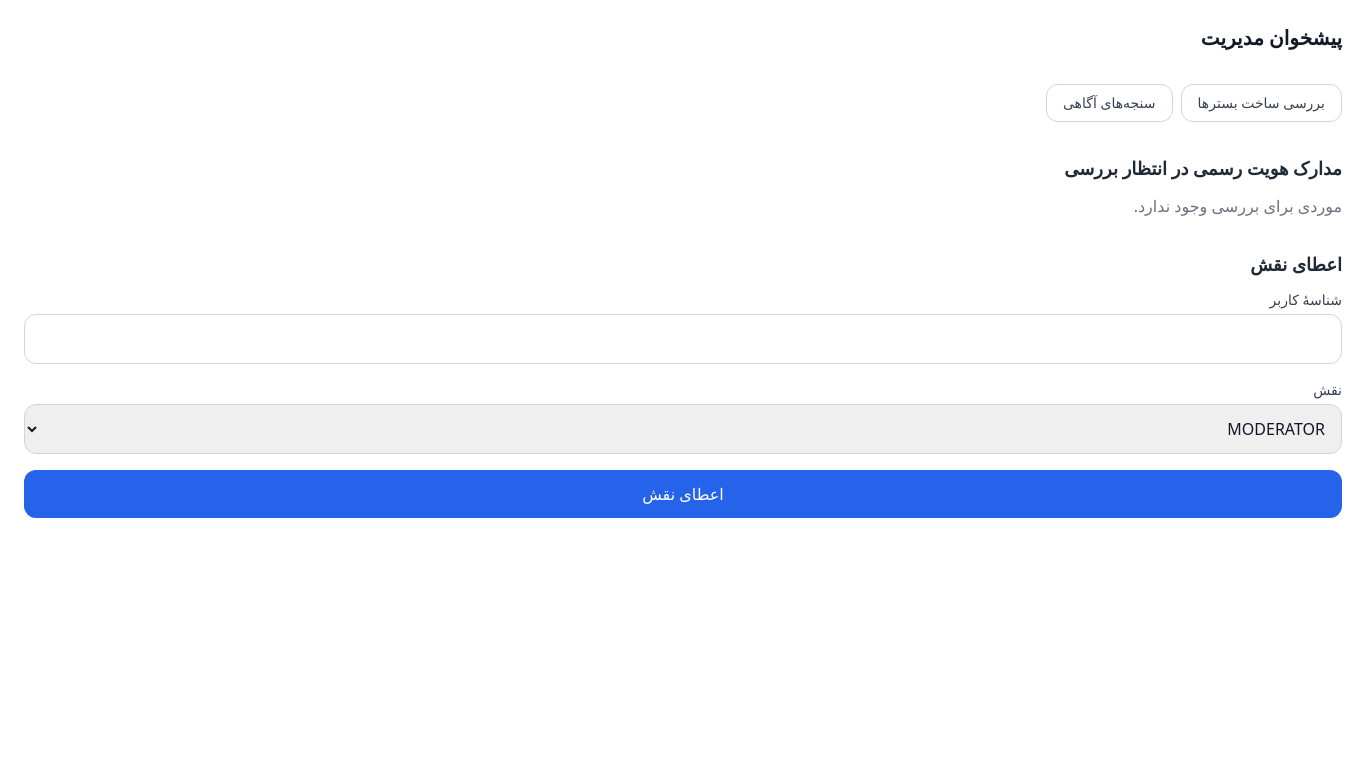
it: AdminDashboard › assigns a role via the form and shows a success message
Check: the text "موردی برای بررسی وجود ندارد." is shown, box left=1134, top=195, right=1342, bottom=217
Type "33333333-3333-4333-8333-333333333333" into the field labelled "شناسهٔ کاربر" at (683, 339), box left=24, top=314, right=1342, bottom=364
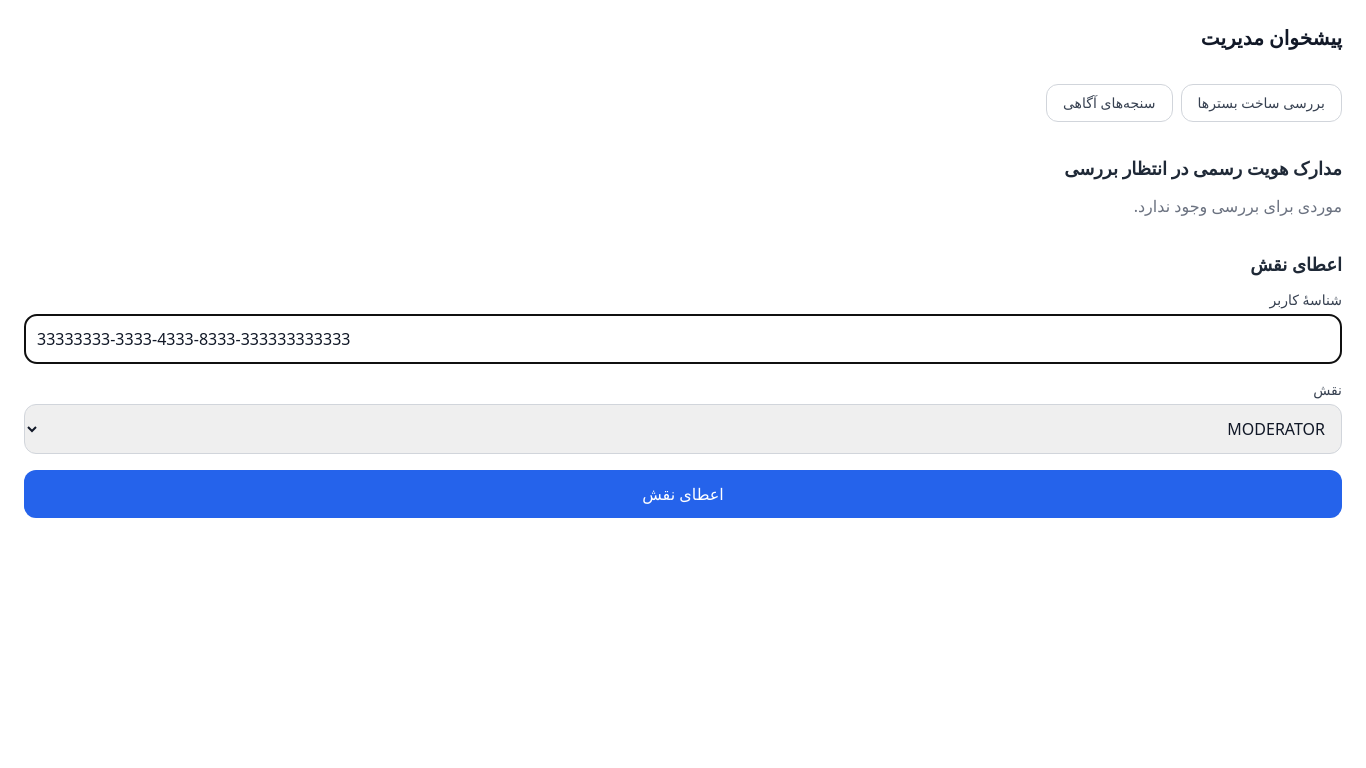
Select "MODERATOR" in the dropdown labelled "نقش" at (683, 429), box left=24, top=404, right=1342, bottom=454
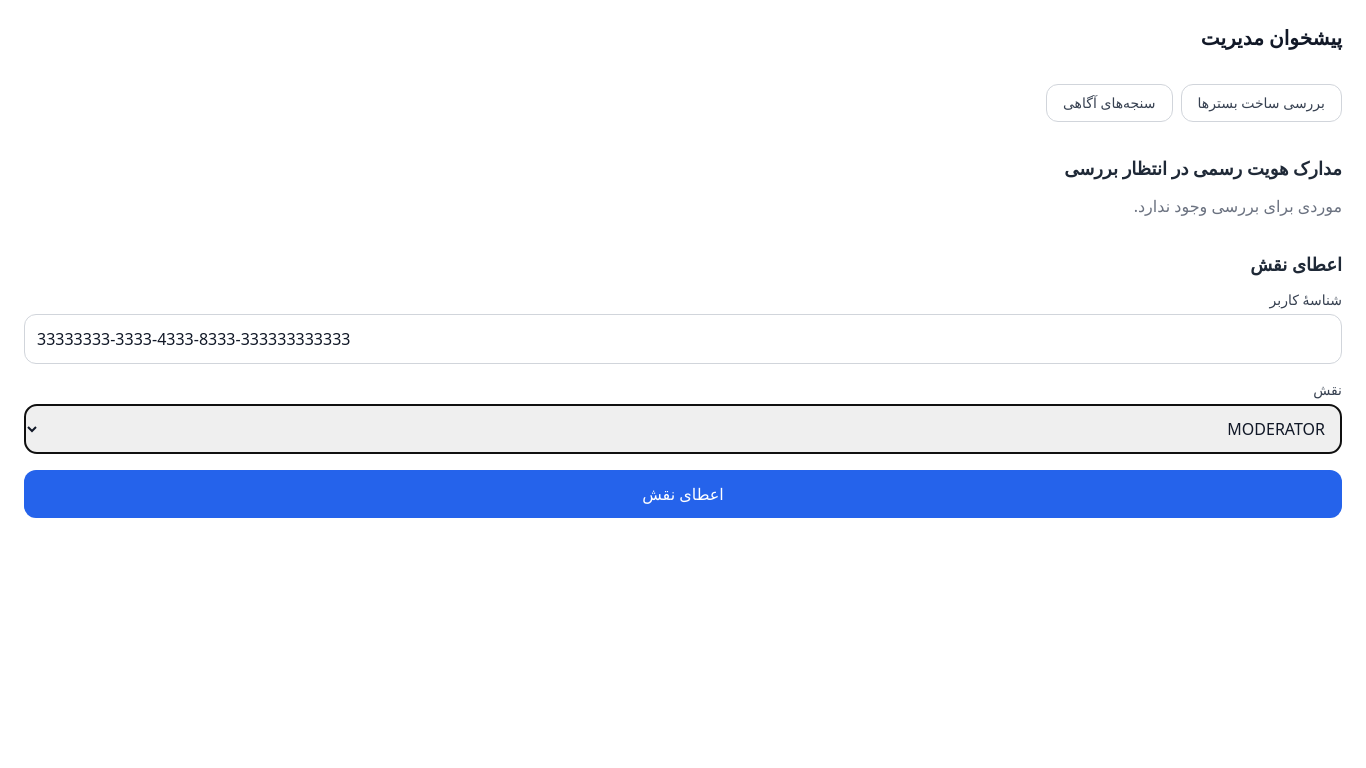
Click the button "اعطای نقش" at (683, 494), box left=24, top=470, right=1342, bottom=518
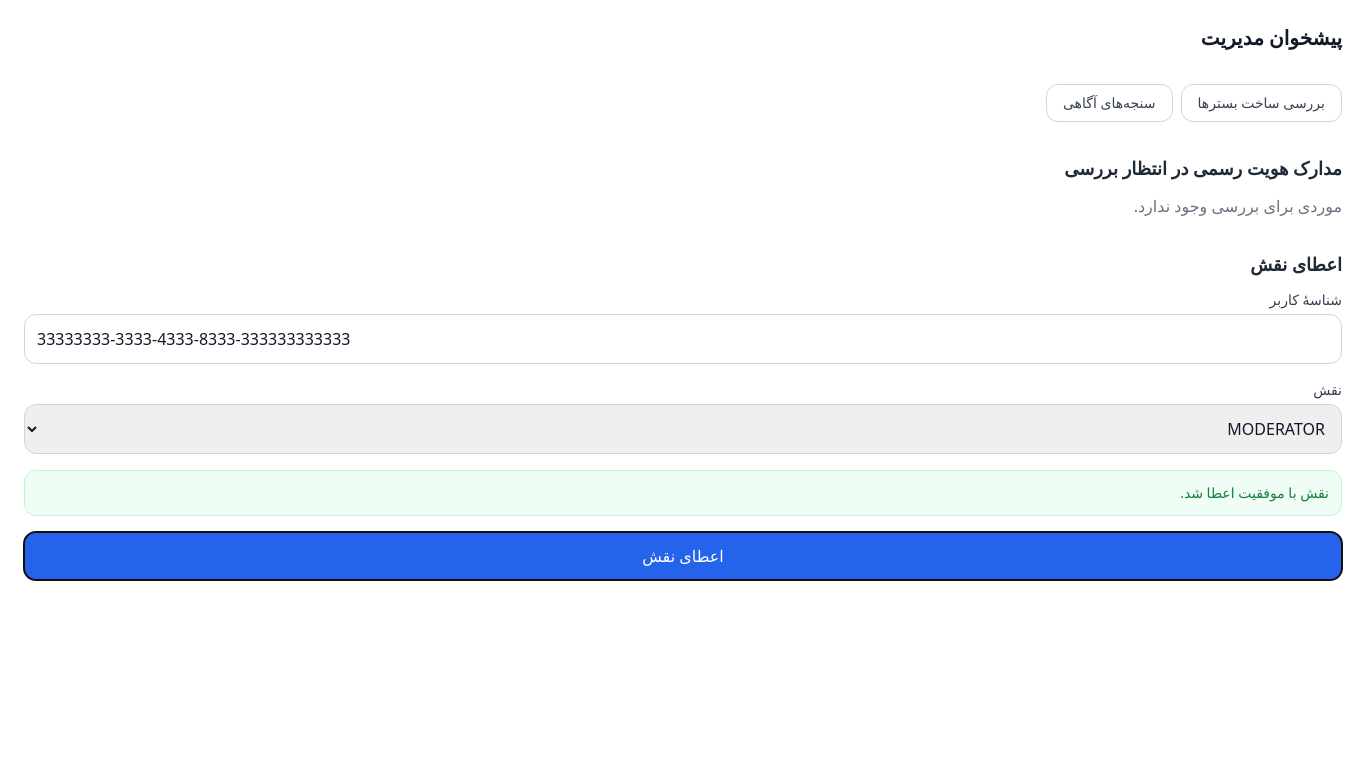
Check: the text "نقش با موفقیت اعطا شد." is shown, box left=24, top=470, right=1342, bottom=516
